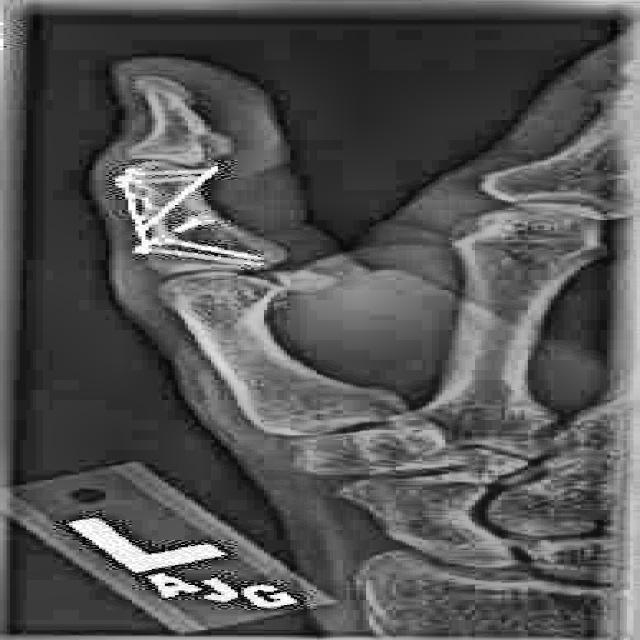fingers positive: (79, 177, 290, 275)
